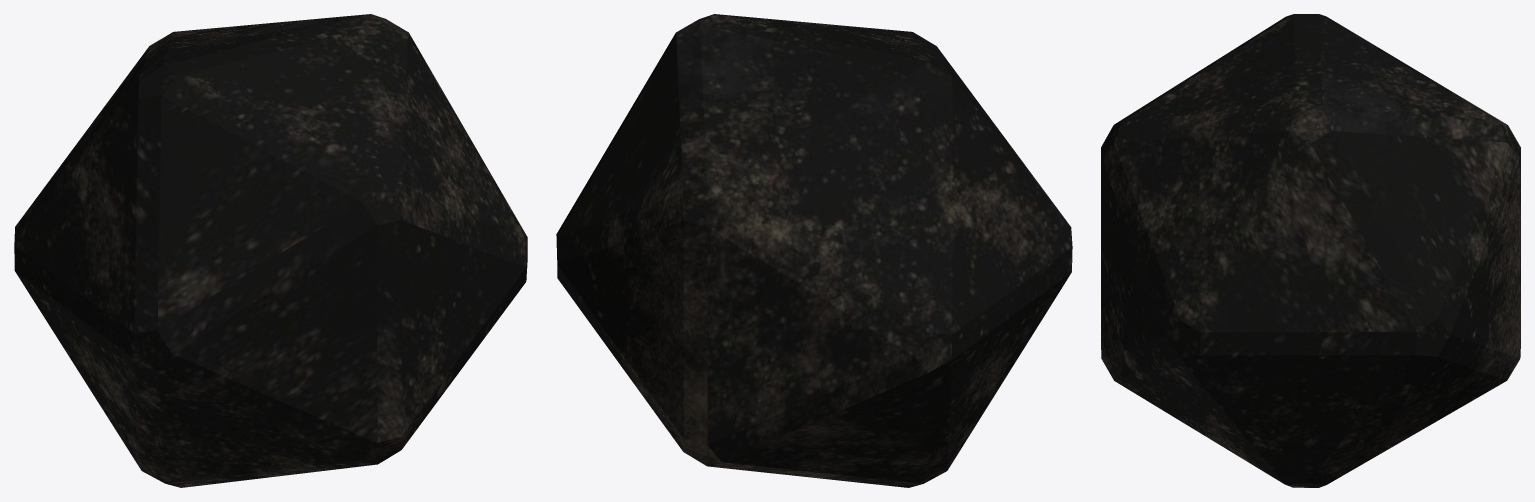
3 renders of one model, left to right at view 1: azimuth 30°, elevation 25°; view 2: azimuth 150°, elevation 25°; view 3: azimuth 270°, elevation 25°, orthographic. The views are drawn at different scales.
Parts seen in each view (by area): view 1: d20; view 2: d20; view 3: d20.
Part boxes in pixels (x1,y1,x2,y2): d20: (14, 14, 527, 487); d20: (556, 14, 1072, 487); d20: (1101, 14, 1520, 487).
Size of the model in its own units: 165 by 164 by 163.
Materials: 1 (1 with a texture image).
